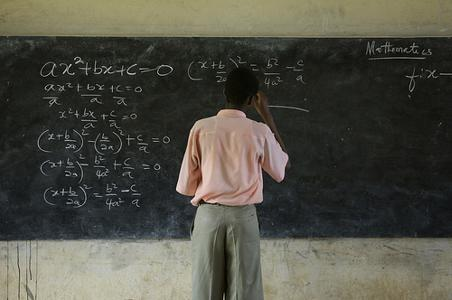person: (174, 66, 290, 298)
